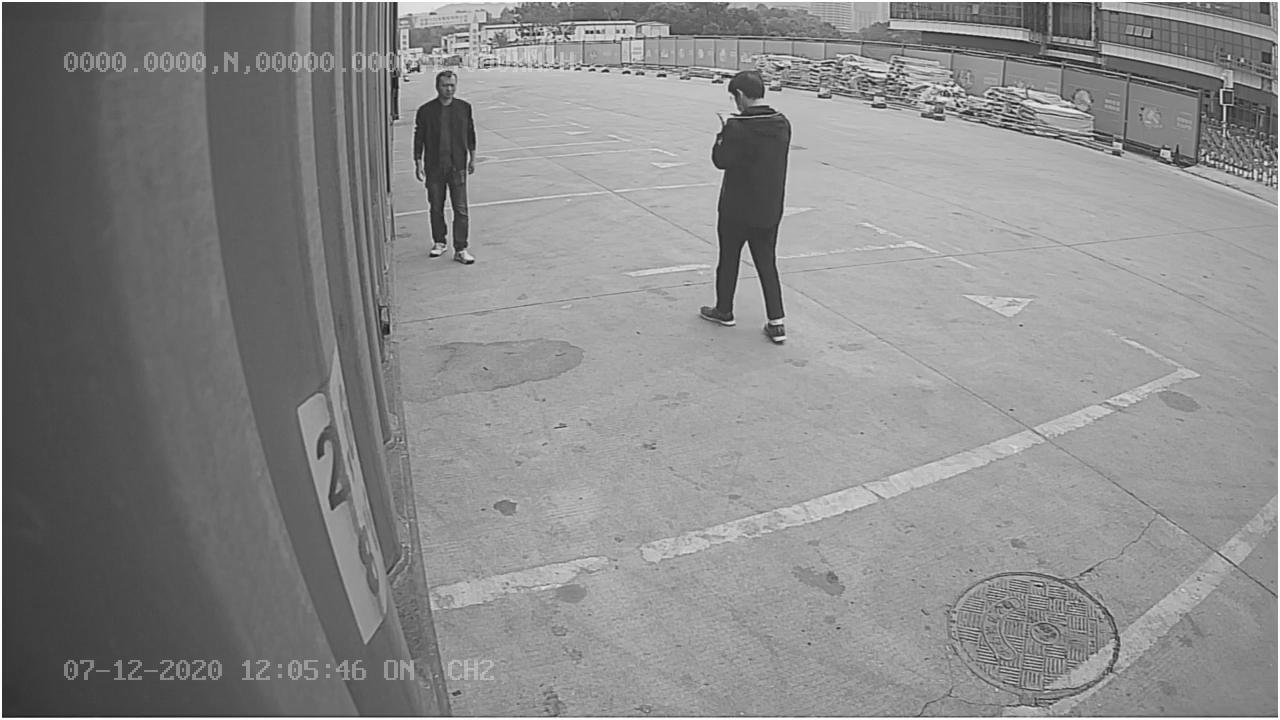person: (691, 67, 802, 345)
